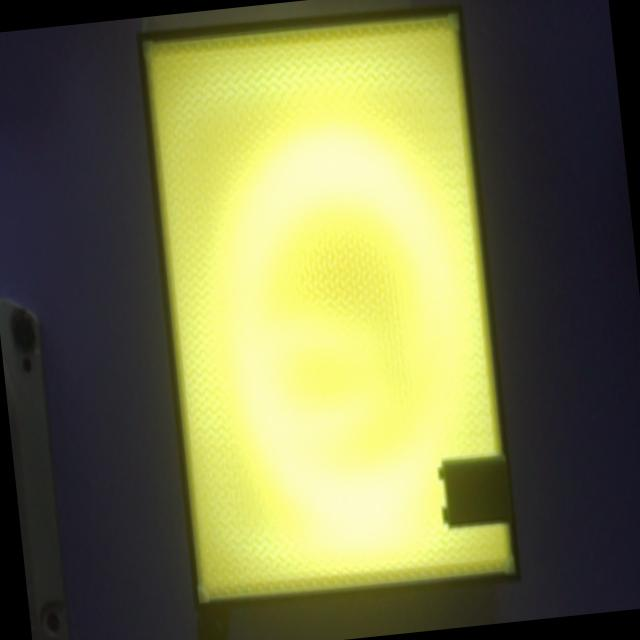bateria: (439, 455, 512, 527)
mesa: (137, 5, 521, 613)
